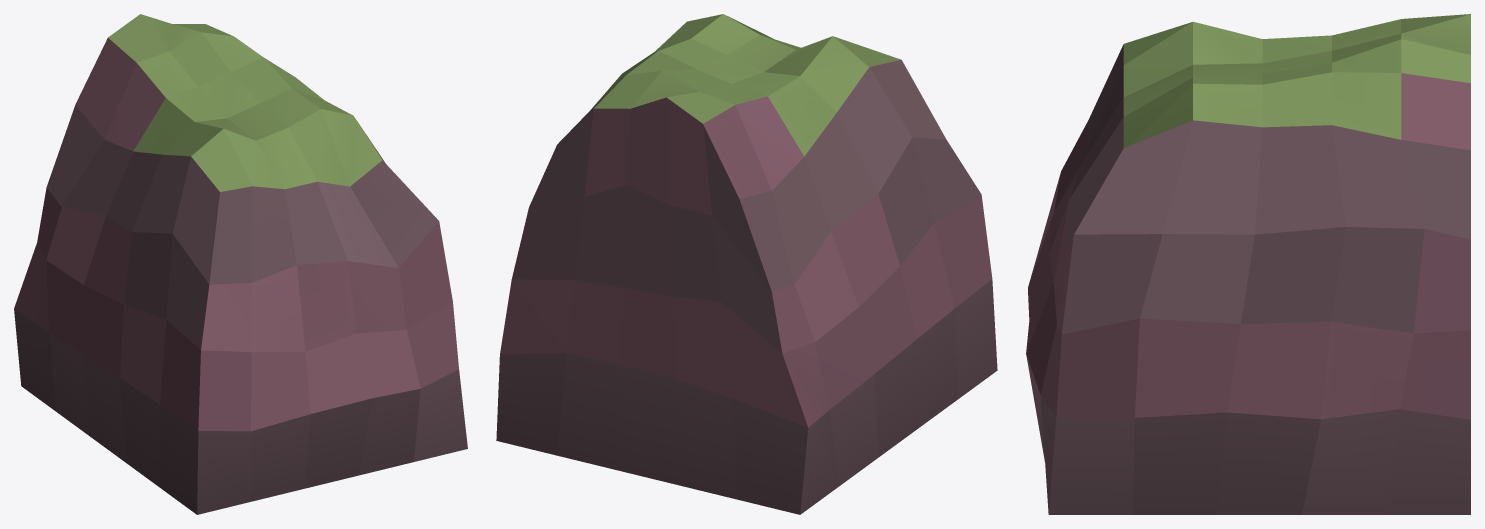
File: roca_punta.glb
The picture shows the model from 3 angles, left to right: view 1: azimuth 30°, elevation 25°; view 2: azimuth 150°, elevation 25°; view 3: azimuth 270°, elevation 25°; orthographic projection. The views are drawn at different scales.
Visible parts, largest first — view 1: propforge-cuartos-roca_punta; view 2: propforge-cuartos-roca_punta; view 3: propforge-cuartos-roca_punta.
Boxes of the visible parts, left/top/right/bottom form: propforge-cuartos-roca_punta: left=14, top=14, right=467, bottom=514; propforge-cuartos-roca_punta: left=496, top=14, right=997, bottom=514; propforge-cuartos-roca_punta: left=1026, top=14, right=1470, bottom=514.
Size of the model in its own units: 0.8426 by 0.9686 by 0.948.
